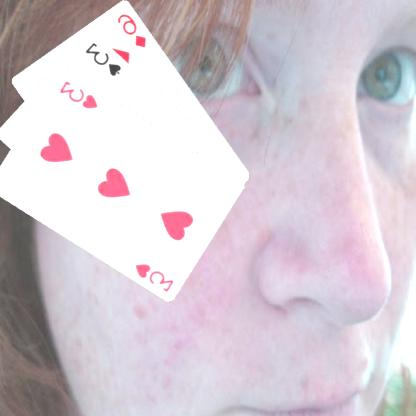3H: (133, 260, 177, 293), (58, 77, 101, 110)
3S: (84, 39, 124, 77)
6D: (116, 10, 150, 49)
